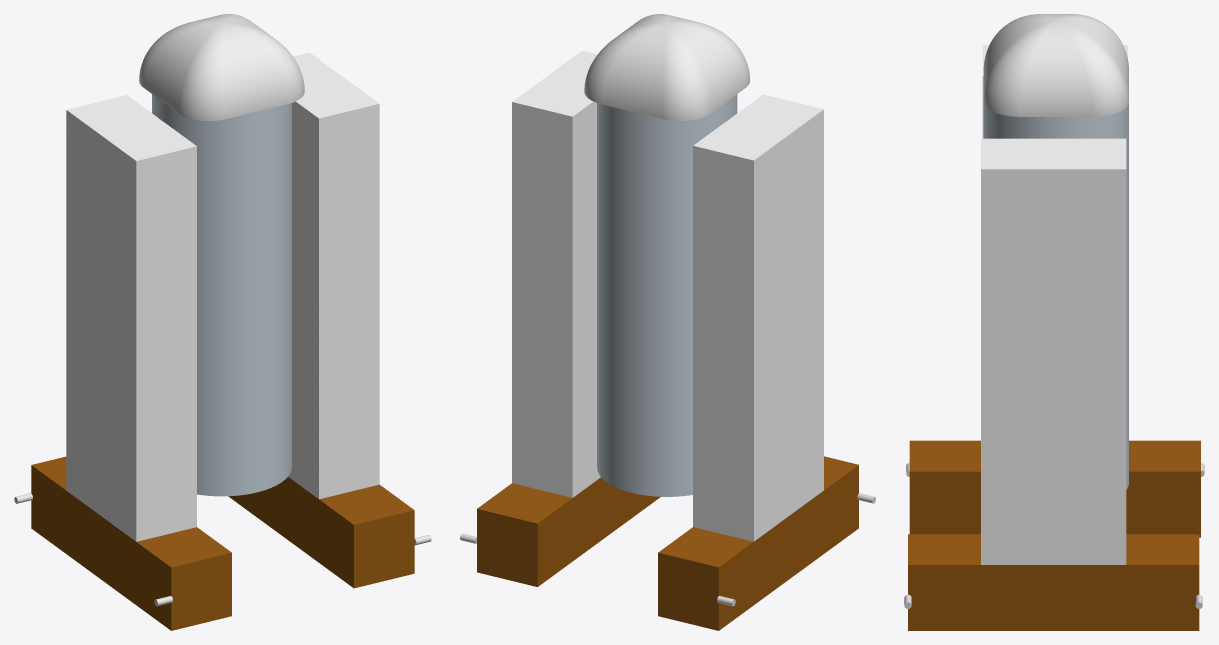
The model's file is robot_complete.dae.
3 renders of one model, left to right at view 1: azimuth 30°, elevation 25°; view 2: azimuth 150°, elevation 25°; view 3: azimuth 270°, elevation 25°, orthographic. The views are drawn at different scales.
Visible parts, largest first — view 1: Part 1 (×6); view 2: Part 1 (×6); view 3: Part 1 (×5).
Boxes of the visible parts, bbox=[...] form: Part 1 (×6): bbox=[31, 14, 414, 630]; Part 1 (×6): bbox=[477, 14, 858, 630]; Part 1 (×5): bbox=[908, 14, 1200, 630].
Bounding box in the file's own units: 0.4497 × 0.4124 × 0.8318.
